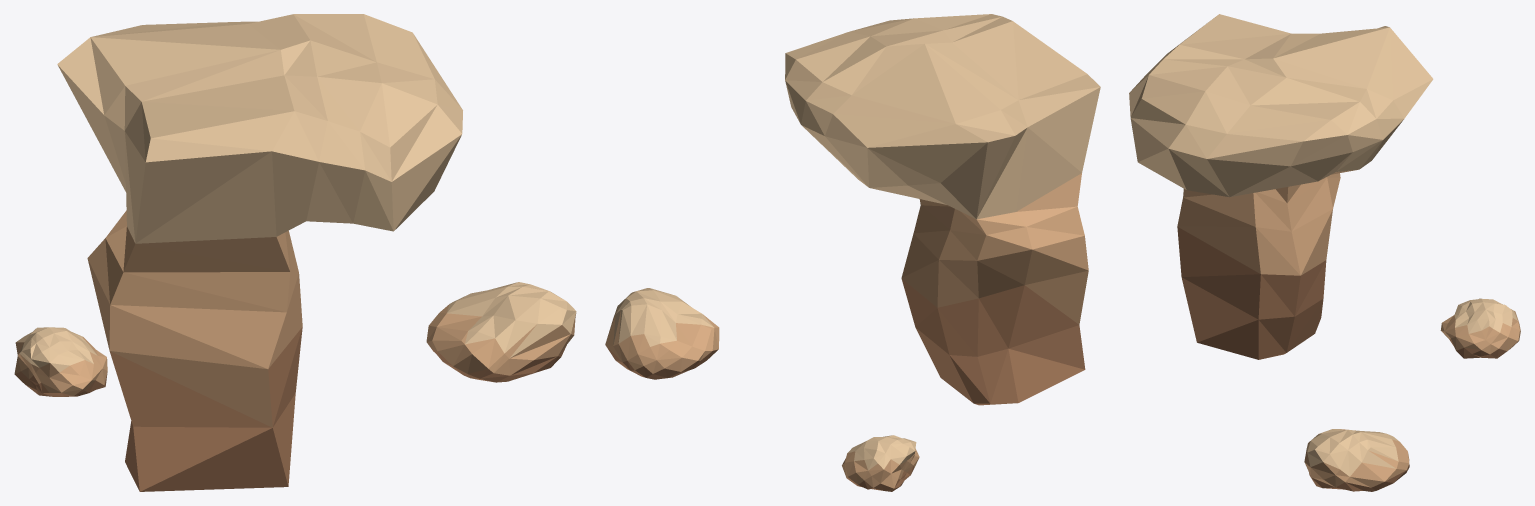
Rendered from canyon-0-1.glb.
3 views of the same model, side by side, from view 1: azimuth 30°, elevation 25°; view 2: azimuth 150°, elevation 25°; view 3: azimuth 270°, elevation 25° (orthographic). The views are drawn at different scales.
Visible parts, largest first — view 1: canyon-0-1; view 2: canyon-0-1; view 3: canyon-0-1.
Part boxes in pixels (x1,y1,x2,y2): canyon-0-1: (14,14,576,491); canyon-0-1: (605,14,1100,491); canyon-0-1: (1129,14,1520,491).
Bounding box in the file's own units: 36.3 × 28.01 × 30.71.
